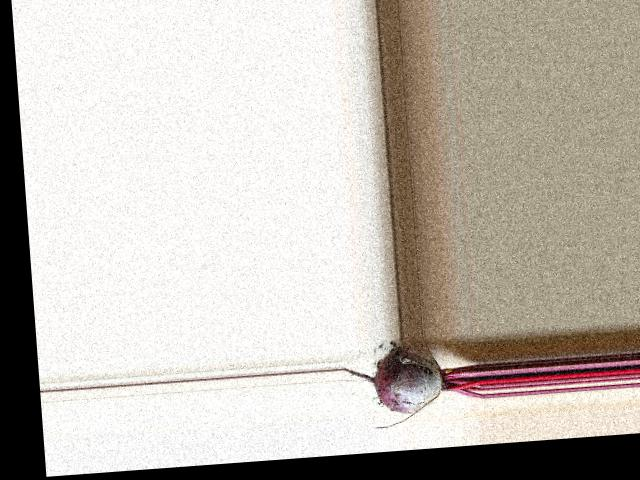beet: (341, 341, 483, 430)
